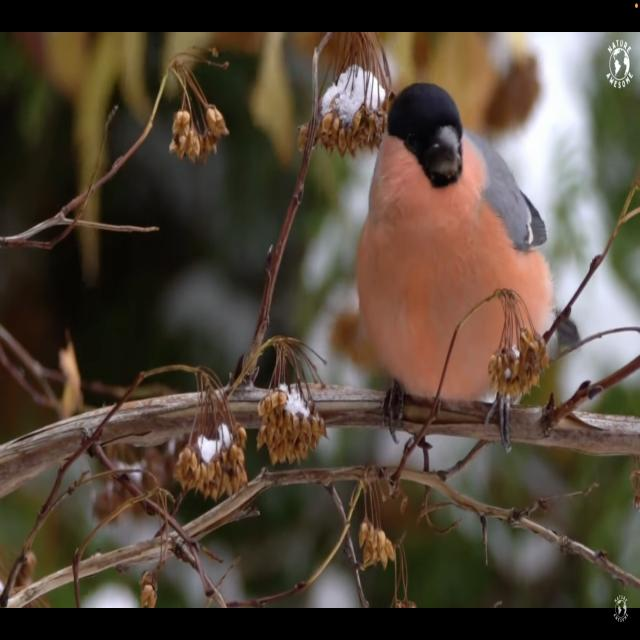beak: (430, 126, 461, 170)
bird: (295, 39, 636, 539), (302, 37, 562, 489)
